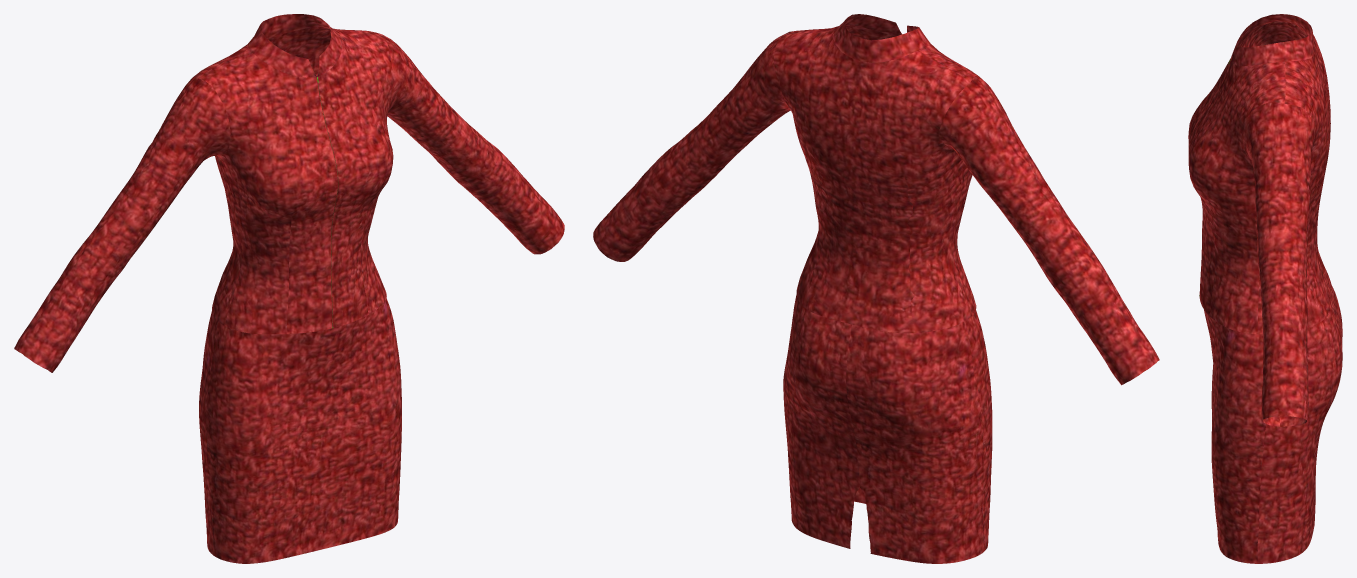
File: Jacket and Skirt.obj
3 views of the same model, side by side, from view 1: azimuth 30°, elevation 25°; view 2: azimuth 150°, elevation 25°; view 3: azimuth 270°, elevation 25° (orthographic). The views are drawn at different scales.
Visible parts, largest first — view 1: Jacket_, Skirt; view 2: Jacket_, Skirt; view 3: Jacket_, Skirt.
Boxes of the visible parts, box(x1,y1,x2,y2) form: Jacket_: box(14, 14, 564, 372); Skirt: box(199, 298, 401, 563); Jacket_: box(593, 14, 1159, 385); Skirt: box(783, 295, 992, 563); Jacket_: box(1188, 14, 1332, 426); Skirt: box(1204, 286, 1342, 563).
Bounding box in the file's own units: 38.09 × 33.52 × 9.5.
3 materials, 2 textured.
